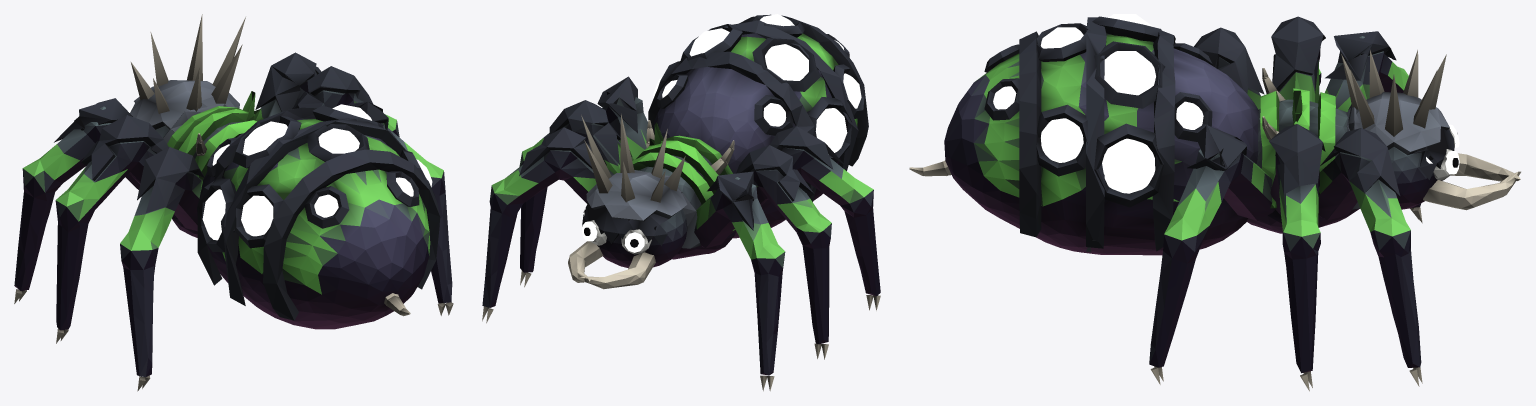
Rendered from Queen.glb.
3 renders of one model, left to right at view 1: azimuth 30°, elevation 25°; view 2: azimuth 150°, elevation 25°; view 3: azimuth 270°, elevation 25°, orthographic. The views are drawn at different scales.
Parts seen in each view (by area): view 1: Abdomen, Leg_5, Leg_3, Leg_1, Head, Eggs_Glow, Torso, Leg_6, Leg_2, Leg_4; view 2: Abdomen, Head, Leg_1, Leg_2, Leg_3, Leg_5, Torso, Eggs_Glow, Leg_4, Leg_6, Eyes_Glow; view 3: Abdomen, Head, Leg_6, Leg_2, Leg_4, Eggs_Glow, Torso, Leg_1, Leg_3, Leg_5.
Boxes of the visible parts, x1,y1,x2,y2 form: Abdomen: (197, 105, 440, 329); Leg_5: (120, 147, 204, 391); Leg_3: (55, 115, 176, 343); Leg_1: (14, 98, 139, 303); Head: (130, 14, 245, 137); Eggs_Glow: (202, 104, 432, 240); Torso: (163, 91, 263, 237); Leg_6: (350, 101, 453, 315); Leg_2: (255, 52, 321, 118); Leg_4: (292, 66, 399, 137); Abdomen: (648, 14, 868, 238); Head: (568, 114, 687, 289); Leg_1: (694, 171, 785, 391); Leg_2: (482, 127, 613, 323); Leg_3: (729, 145, 831, 359); Leg_5: (761, 126, 880, 310); Torso: (632, 120, 736, 259); Eggs_Glow: (653, 14, 861, 152); Leg_4: (519, 100, 634, 287); Leg_6: (597, 76, 647, 159); Eyes_Glow: (581, 208, 644, 252); Abdomen: (909, 16, 1258, 255); Head: (1341, 50, 1520, 210); Leg_6: (1149, 125, 1275, 384); Leg_2: (1318, 128, 1422, 386); Leg_4: (1269, 124, 1325, 391); Eggs_Glow: (993, 14, 1203, 193); Torso: (1247, 68, 1360, 233); Leg_1: (1325, 31, 1422, 223); Leg_3: (1271, 16, 1325, 103); Leg_5: (1194, 27, 1264, 109).
Size of the model in its own units: 11.14 by 8.05 by 16.21.
